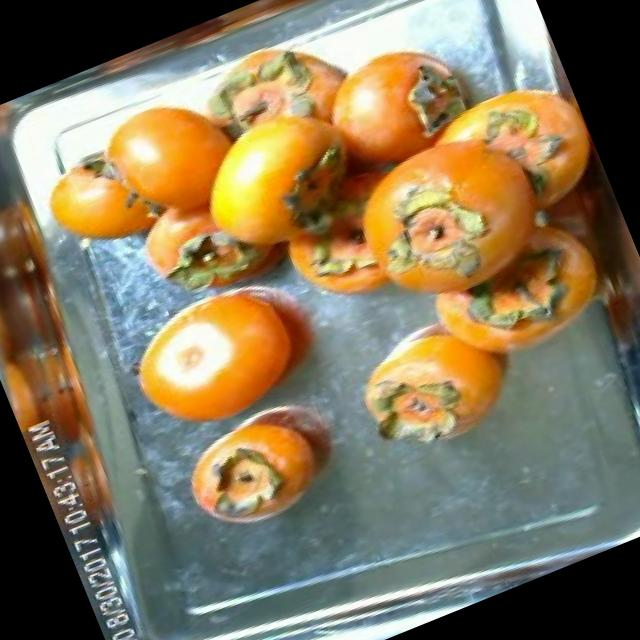Fruit: (327, 300, 512, 474), (21, 128, 178, 278), (164, 414, 306, 552)
